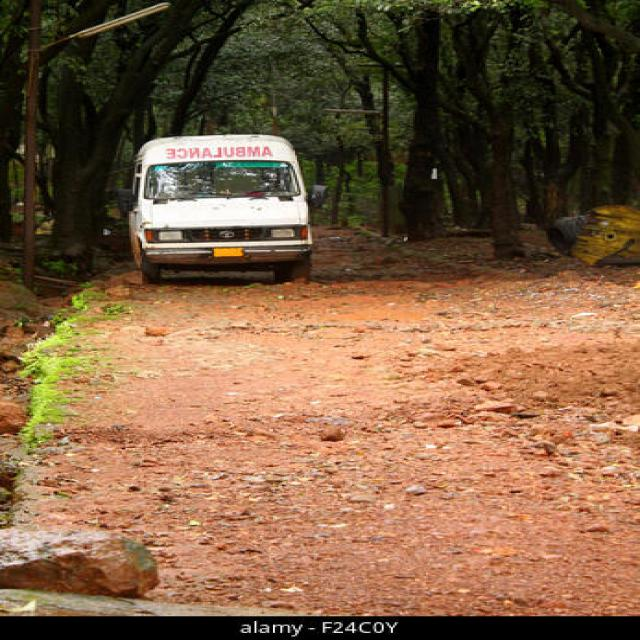emergency: (121, 135, 325, 282)
